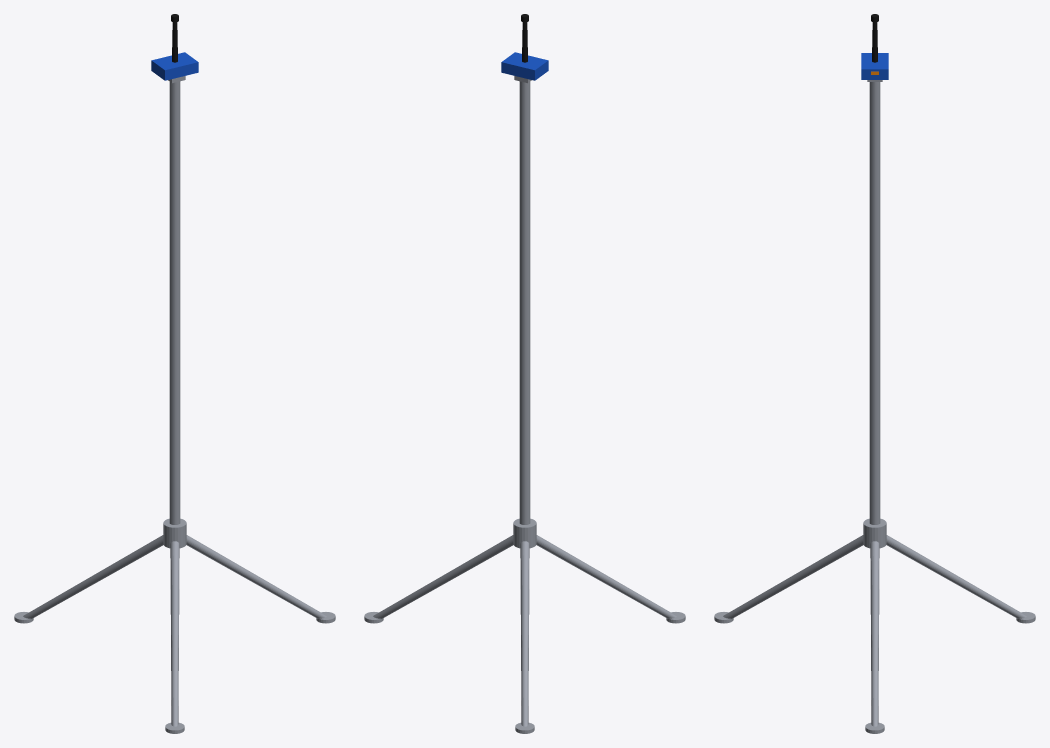
The model's file is uwb_anchor.dae.
3 renders of one model, left to right at view 1: azimuth 30°, elevation 25°; view 2: azimuth 150°, elevation 25°; view 3: azimuth 270°, elevation 25°, orthographic.
Visible parts, largest first — view 1: stand, module; view 2: stand, module; view 3: stand, module.
Part boxes in pixels (x1,y1,x2,y2): stand: [14, 76, 335, 733]; module: [151, 52, 198, 80]; stand: [364, 76, 685, 733]; module: [501, 52, 548, 80]; stand: [714, 80, 1035, 733]; module: [861, 53, 888, 79].
Size of the model in its own units: 0.725 by 0.8294 by 1.83.
